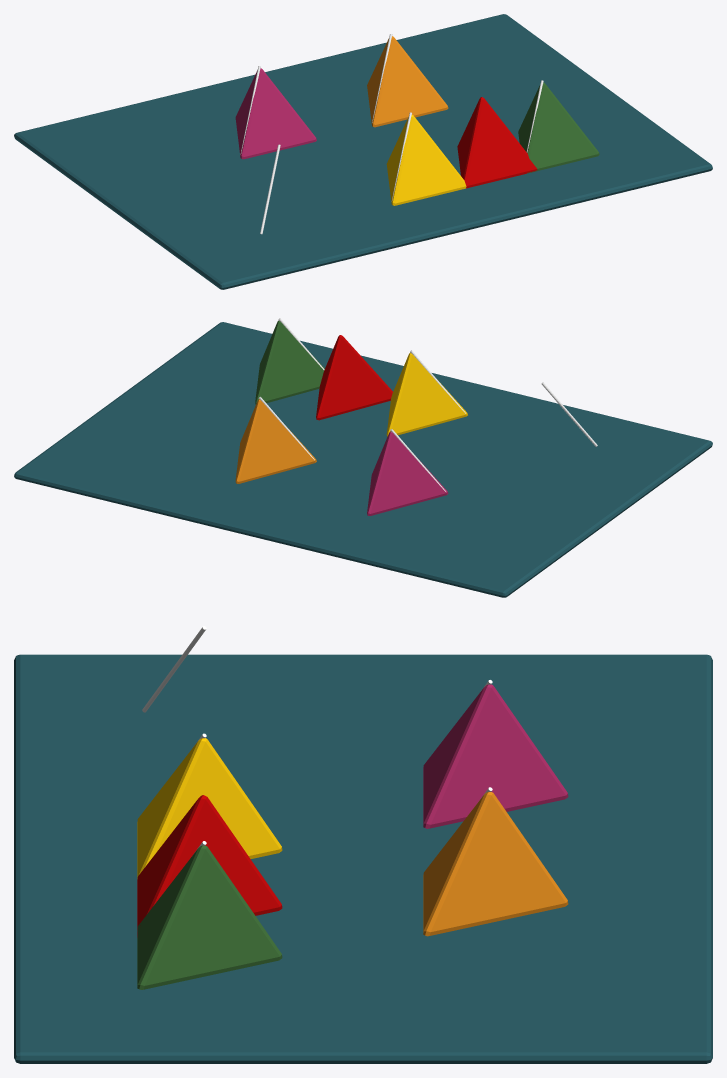
File: source-edit.glb
The picture shows the model from 3 angles, top to bottom: view 1: azimuth 30°, elevation 25°; view 2: azimuth 150°, elevation 25°; view 3: azimuth 270°, elevation 25°; orthographic projection. The views are drawn at different scales.
Visible parts, largest first — view 1: Play_Mat, Cloth_Beanbag_0, Cloth_Beanbag_1, Cloth_Beanbag_3, Cloth_Beanbag_4, Cloth_Beanbag_2; view 2: Play_Mat, Cloth_Beanbag_0, Cloth_Beanbag_4, Cloth_Beanbag_3, Cloth_Beanbag_1, Cloth_Beanbag_2; view 3: Play_Mat, Cloth_Beanbag_2, Cloth_Beanbag_4, Cloth_Beanbag_3, Cloth_Beanbag_1, Cloth_Beanbag_0.
Part boxes in pixels (bbox=[...]): Play_Mat: bbox=[14, 14, 712, 289]; Cloth_Beanbag_0: bbox=[457, 97, 537, 188]; Cloth_Beanbag_1: bbox=[386, 114, 466, 205]; Cloth_Beanbag_3: bbox=[235, 68, 316, 159]; Cloth_Beanbag_4: bbox=[367, 36, 448, 127]; Cloth_Beanbag_2: bbox=[518, 82, 599, 173]; Play_Mat: bbox=[14, 322, 712, 597]; Cloth_Beanbag_0: bbox=[316, 335, 392, 420]; Cloth_Beanbag_4: bbox=[235, 399, 316, 483]; Cloth_Beanbag_3: bbox=[367, 431, 448, 515]; Cloth_Beanbag_1: bbox=[386, 352, 467, 436]; Cloth_Beanbag_2: bbox=[255, 320, 324, 404]; Play_Mat: bbox=[14, 654, 712, 1063]; Cloth_Beanbag_2: bbox=[137, 845, 282, 989]; Cloth_Beanbag_4: bbox=[423, 792, 568, 936]; Cloth_Beanbag_3: bbox=[423, 684, 568, 828]; Cloth_Beanbag_1: bbox=[137, 738, 282, 878]; Cloth_Beanbag_0: bbox=[137, 795, 282, 937].
Bounding box in the file's own units: 0.3 × 0.0454 × 0.22.
